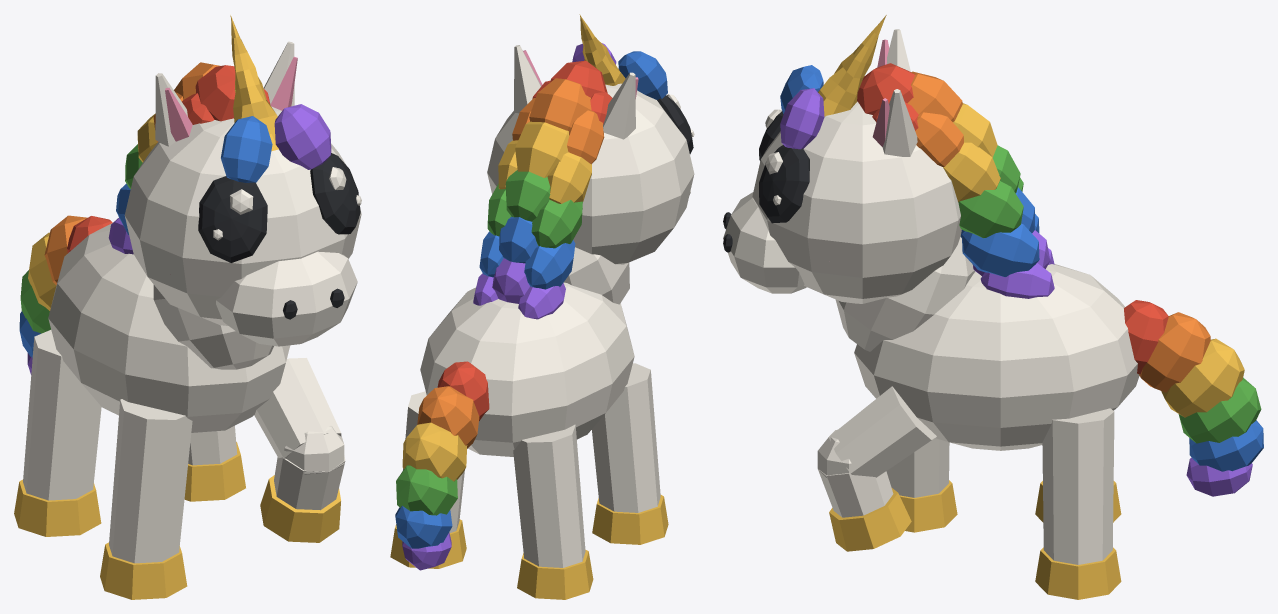
File: rainbow-unicorn-pet.glb
The picture shows the model from 3 angles, left to right: view 1: azimuth 30°, elevation 25°; view 2: azimuth 150°, elevation 25°; view 3: azimuth 270°, elevation 25°; orthographic projection. The views are drawn at different scales.
Visible parts, largest first — view 1: Unicorn_Pet; view 2: Unicorn_Pet; view 3: Unicorn_Pet.
Boxes of the visible parts, <box> form: Unicorn_Pet: <box>14,15,361,599</box>; Unicorn_Pet: <box>390,14,694,599</box>; Unicorn_Pet: <box>723,15,1263,599</box>.
Size of the model in its own units: 1.42 by 3.42 by 3.14.
